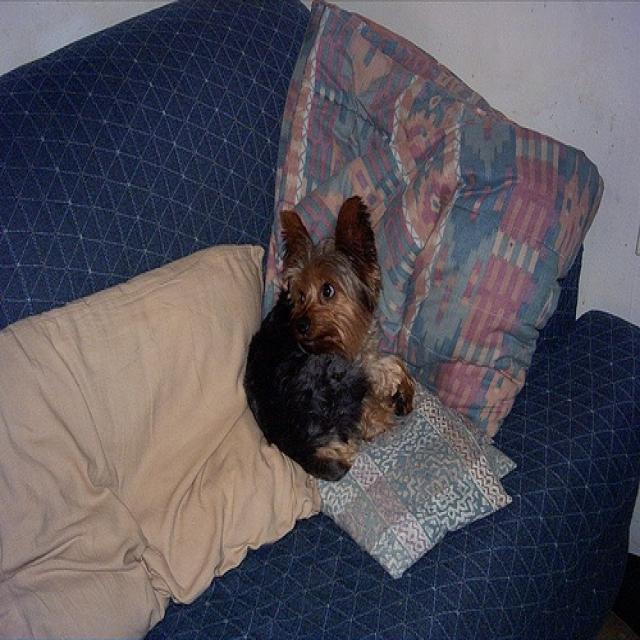dog: (238, 196, 415, 486)
sofa: (5, 4, 638, 638)
